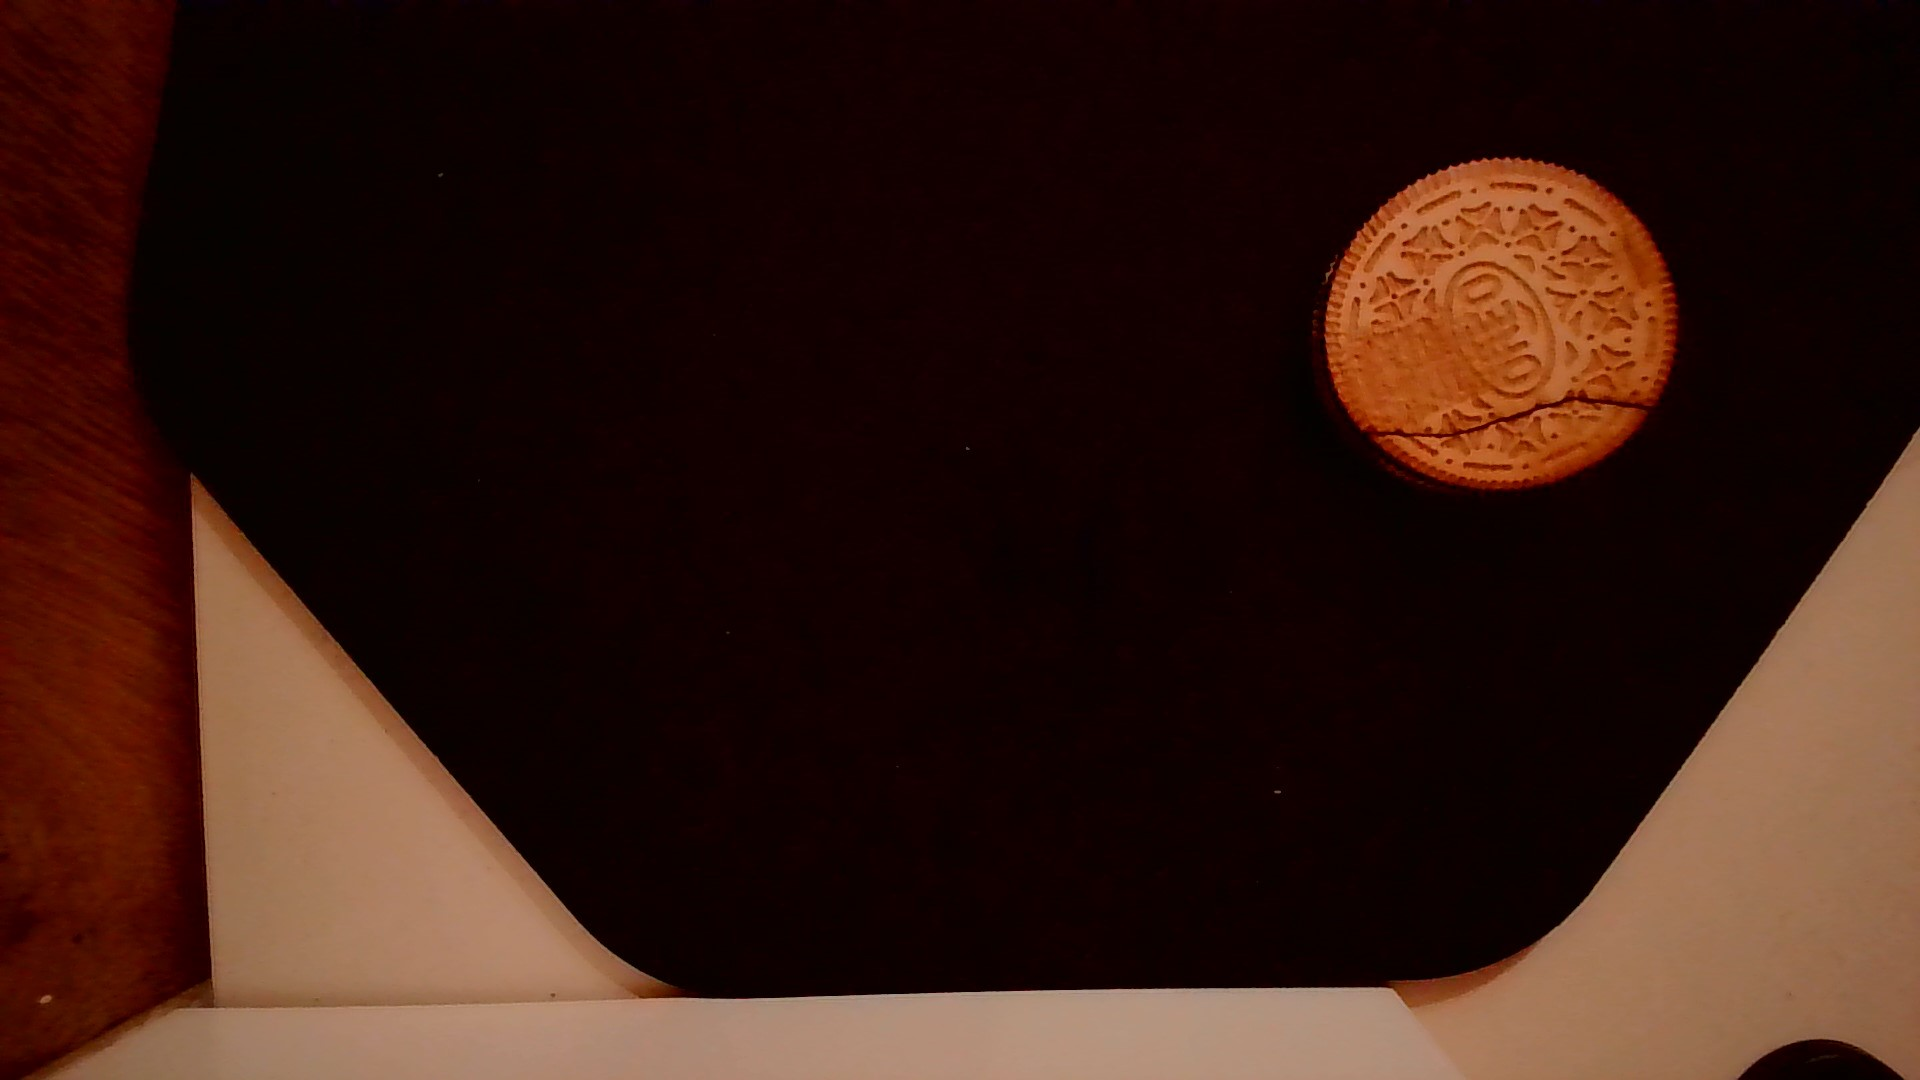Effacé: (1323, 307, 1494, 415), (1601, 214, 1665, 294)
Fissure: (1356, 386, 1665, 444)
Oréo: (1309, 145, 1685, 502)
